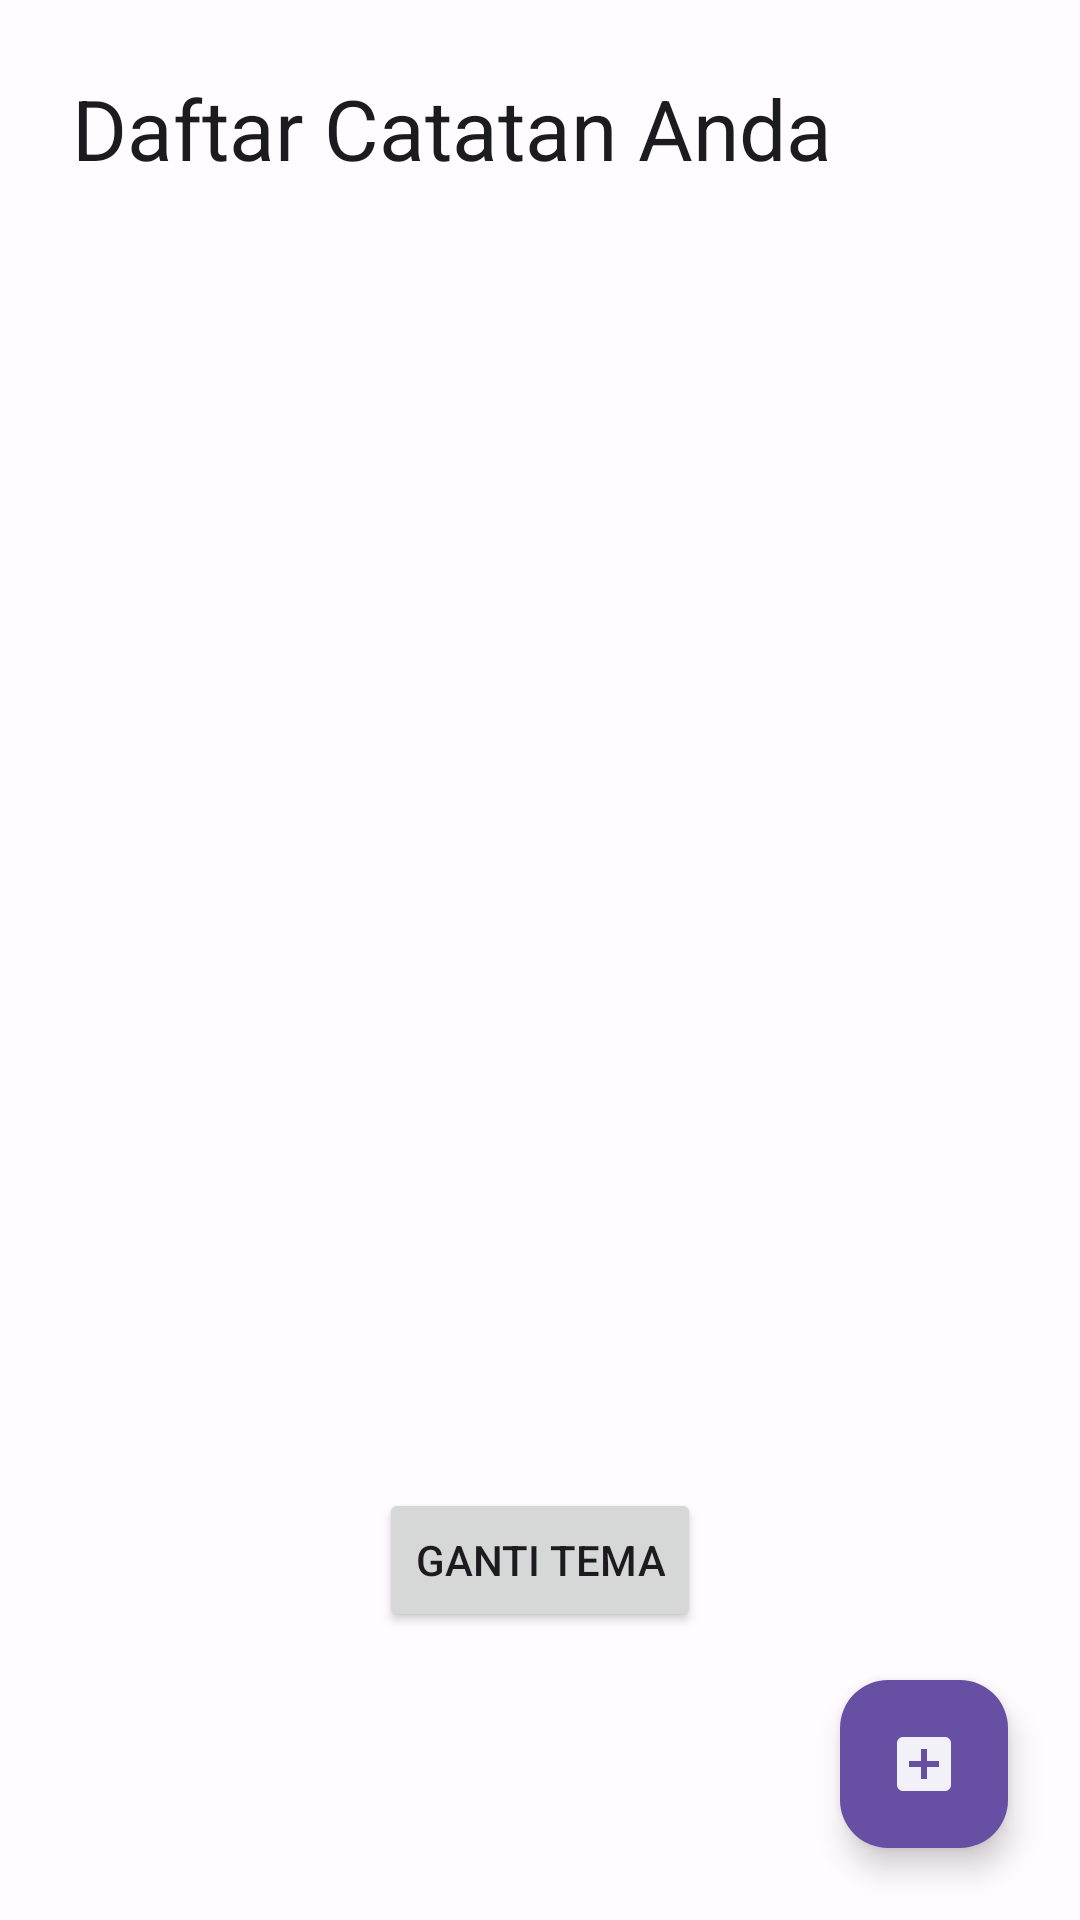

Named icons in this screenshot (1080x1920) and their bounding boxes, (x1, y1, x2, y2):
Add new note: (840, 1680, 1008, 1848)
